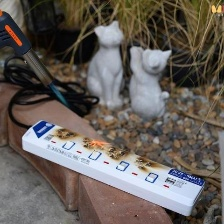three_eye_plug: (18, 119, 206, 218)
